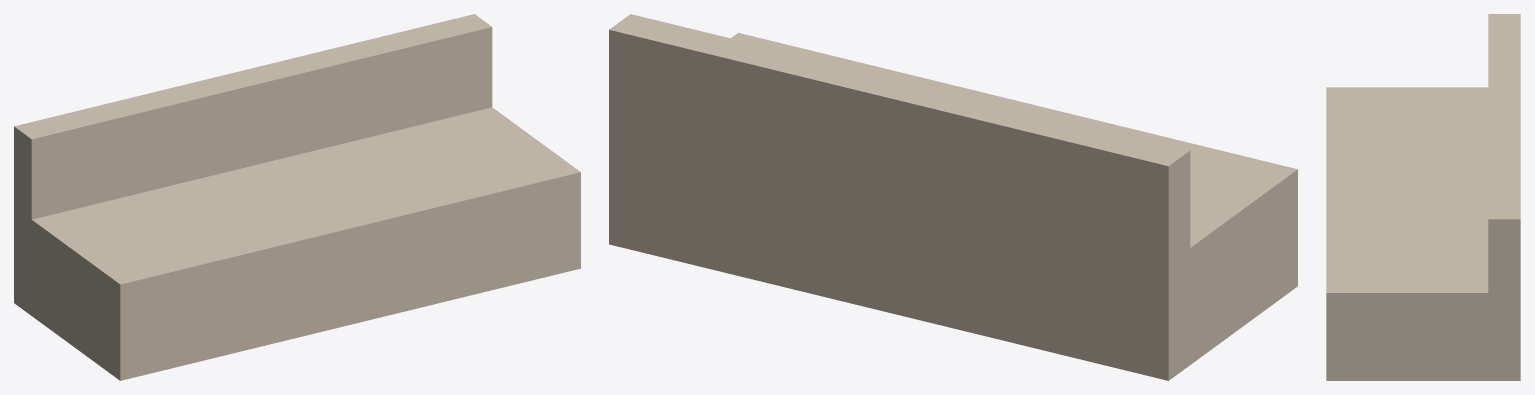
File: sofa.glb
3 renders of one model, left to right at view 1: azimuth 30°, elevation 25°; view 2: azimuth 150°, elevation 25°; view 3: azimuth 270°, elevation 25°, orthographic. The views are drawn at different scales.
Visible parts, largest first — view 1: Seat, Back; view 2: Seat, Back; view 3: Seat, Back.
Boxes of the visible parts, bbox=[...] form: Seat: bbox=[14, 107, 580, 380]; Back: bbox=[14, 14, 492, 228]; Seat: bbox=[609, 33, 1297, 380]; Back: bbox=[609, 14, 1190, 275]; Seat: bbox=[1326, 87, 1520, 380]; Back: bbox=[1488, 14, 1520, 306].
Bounding box in the file's own units: 1.5 × 0.55 × 0.6.
